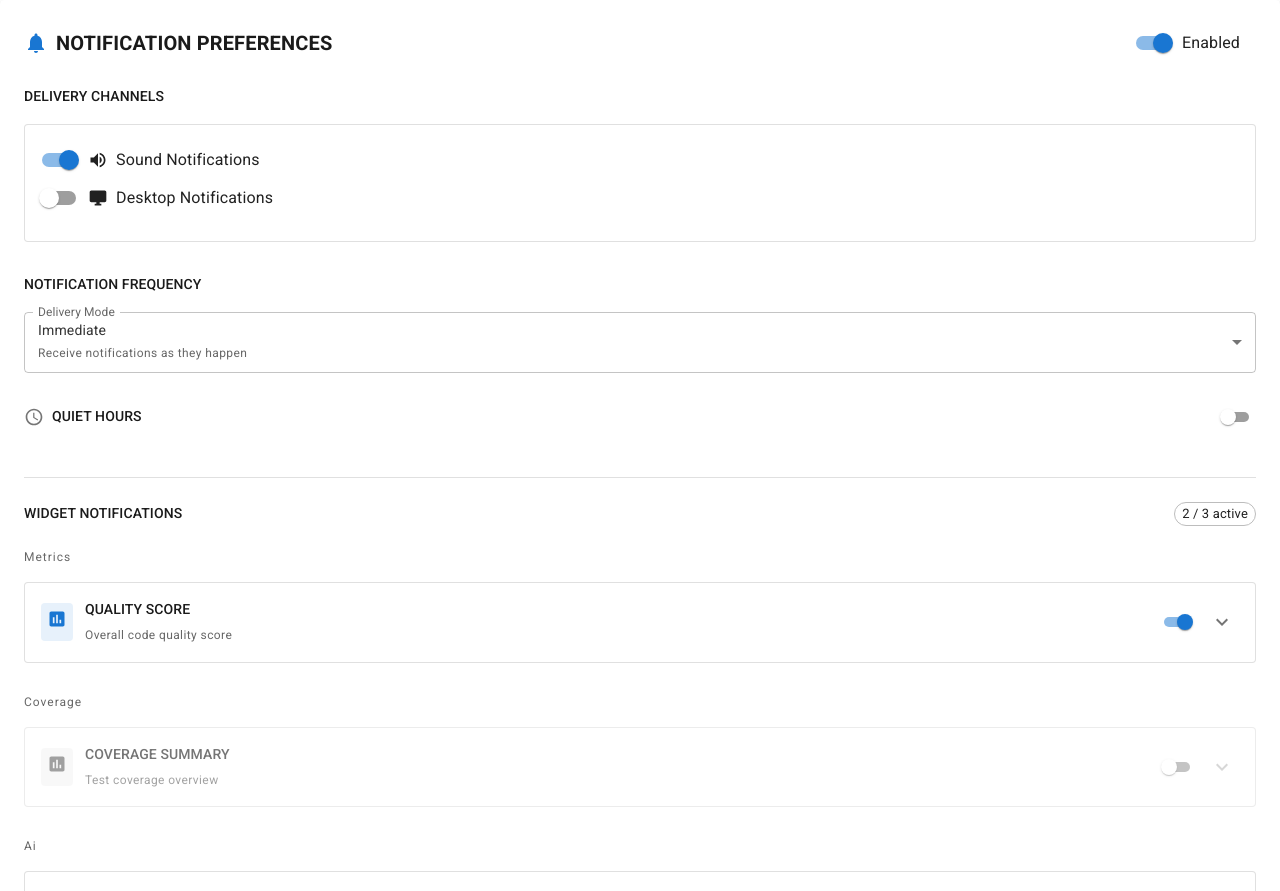
NotificationPreferences Widget Settings › should expand widget settings when clicking expand button
The image size is (1280, 891).
Click the button with test id "ExpandMoreIcon". click: (1222, 622)
box: [1205,605,1239,639]
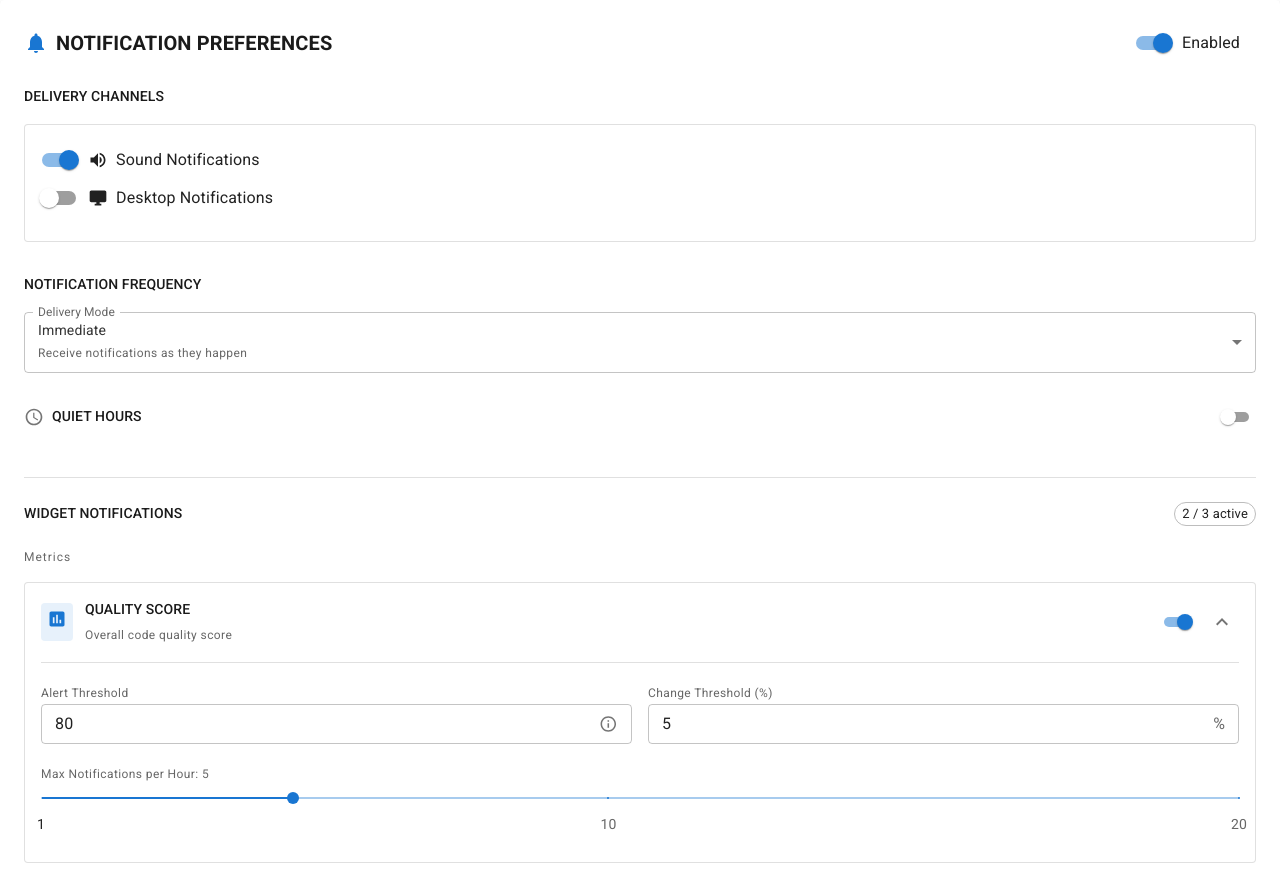
expect the text "Alert Threshold" is shown: met, box [41,686,129,700]
expect the text "Change Threshold (%)" is shown: met, box [648,686,773,700]
expect the text "Max Notifications per Hour: 5" is shown: met, box [41,766,209,780]
